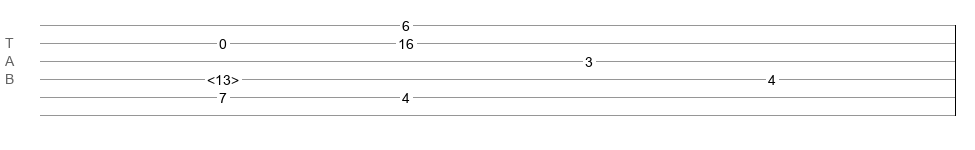0: (219, 36, 227, 46)
16: (398, 36, 414, 46)
3: (585, 54, 593, 64)
4: (402, 90, 410, 100), (768, 72, 776, 82)
6: (402, 18, 410, 28)
7: (219, 90, 227, 100)
harmonic: (207, 72, 239, 82)
